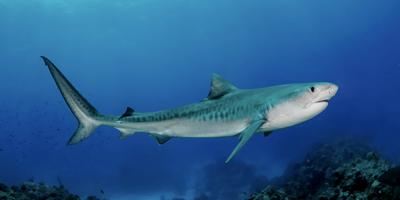Shark -Selachimorpha-: (40, 55, 338, 164)
